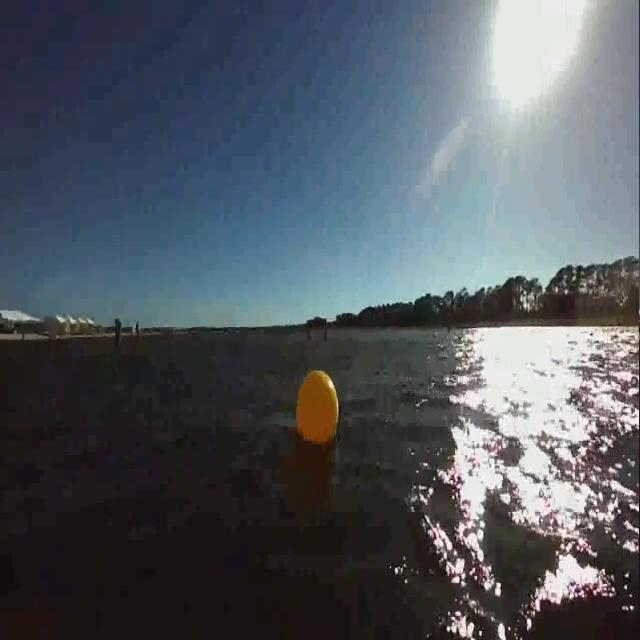yellow-buoy: (296, 368, 341, 447)
